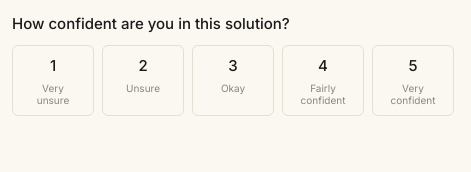
ConfidenceWidget › disables all buttons after pick
This screenshot has width=471, height=172.
What coordinates should you click on to do the following:
click the button "2 Unsure"
I would click on:
 (143, 80)
Its box is [102,45,184,116].
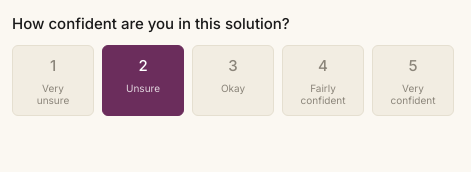
Expected: the button "2 Unsure" is disabled, [102,45,184,116]
Expected: the button "3 Okay" is disabled, [192,45,274,116]
Expected: the button "4 Fairly confident" is disabled, [282,45,364,116]
